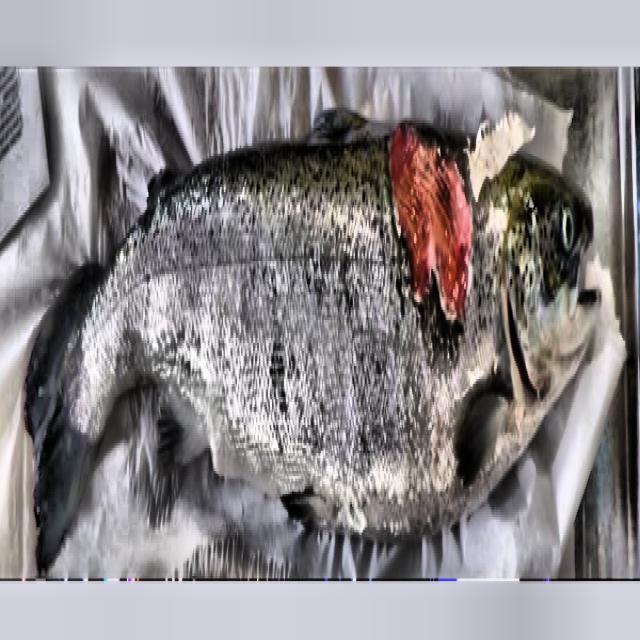mild_red: (62, 146, 491, 538)
wound: (389, 125, 475, 317)
